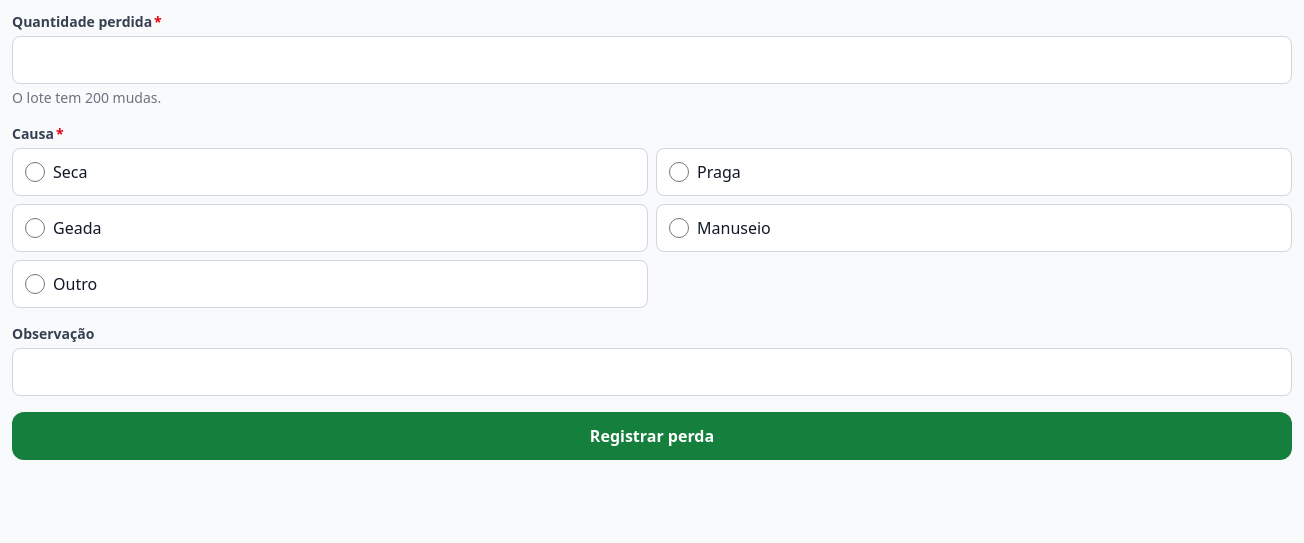
Test: PerdaForm (T4.5, T9.3) › TA-23: sem rede, a confirmação aparece na hora
The image size is (1304, 543).
In the field labelled "Quantidade perdida": [652, 60] box x1=12 y1=36 x2=1292 y2=84, type "30"
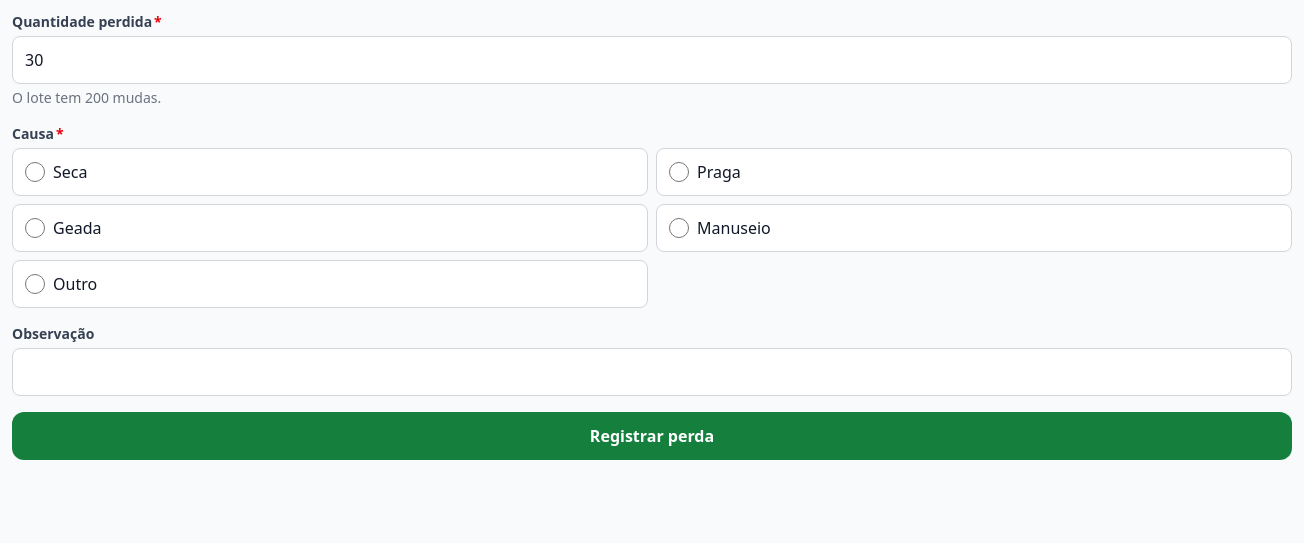
Click the radio button labelled "Seca": [35, 172] box x1=25 y1=162 x2=45 y2=182
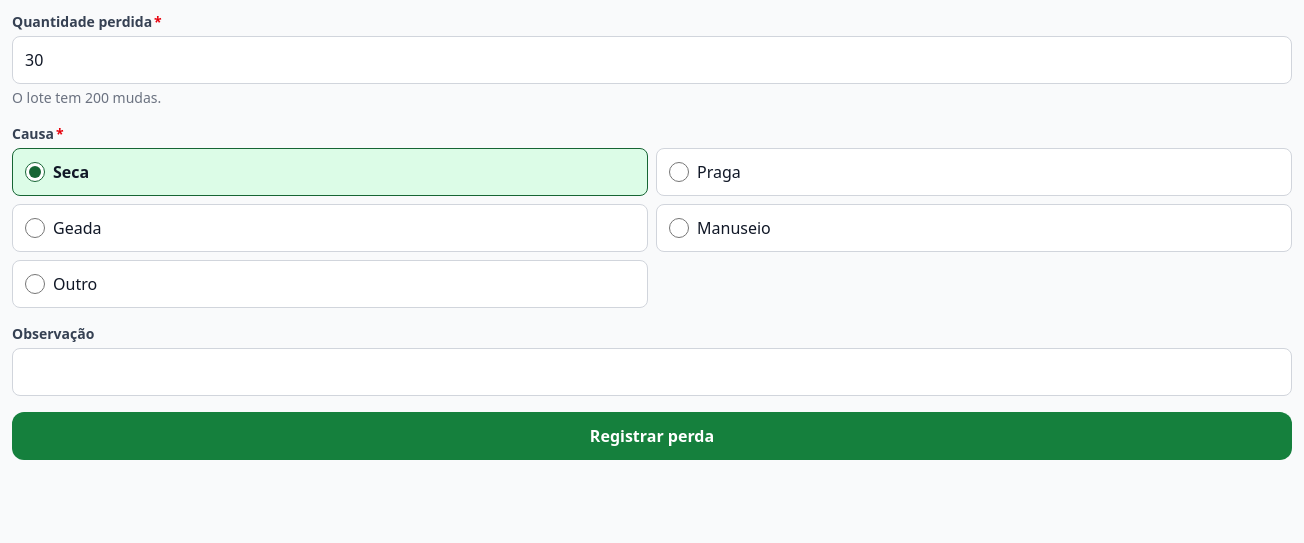
Click the button "Registrar perda": [652, 436] box x1=12 y1=412 x2=1292 y2=460
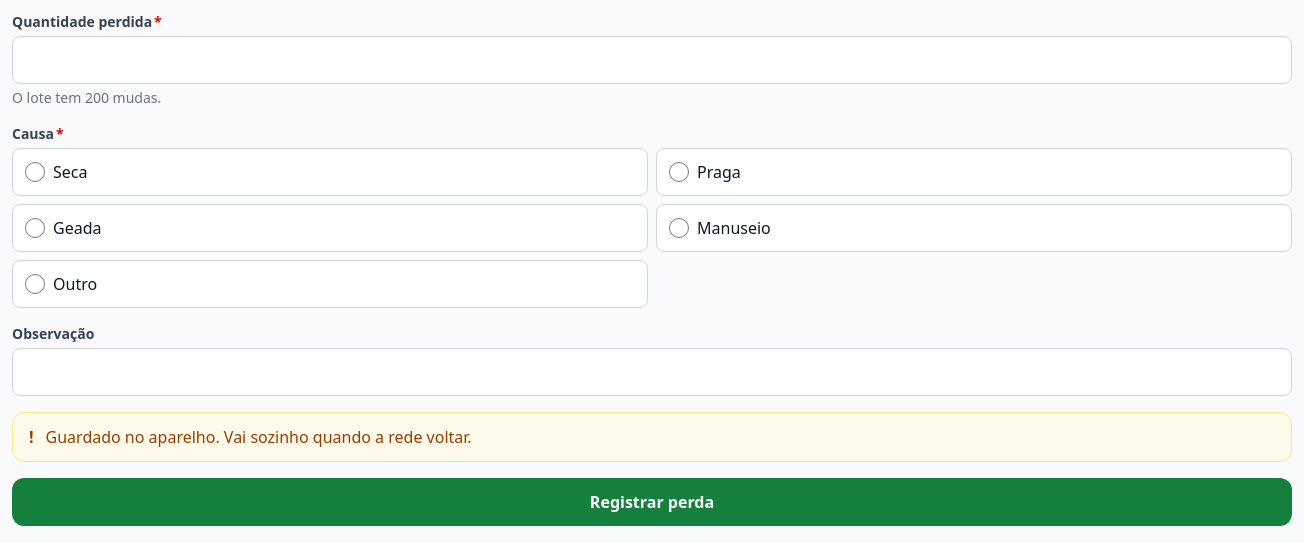
Result: the text "Guardado no aparelho. Vai sozinho quando a rede voltar." is shown at x1=46 y1=425 x2=472 y2=449
